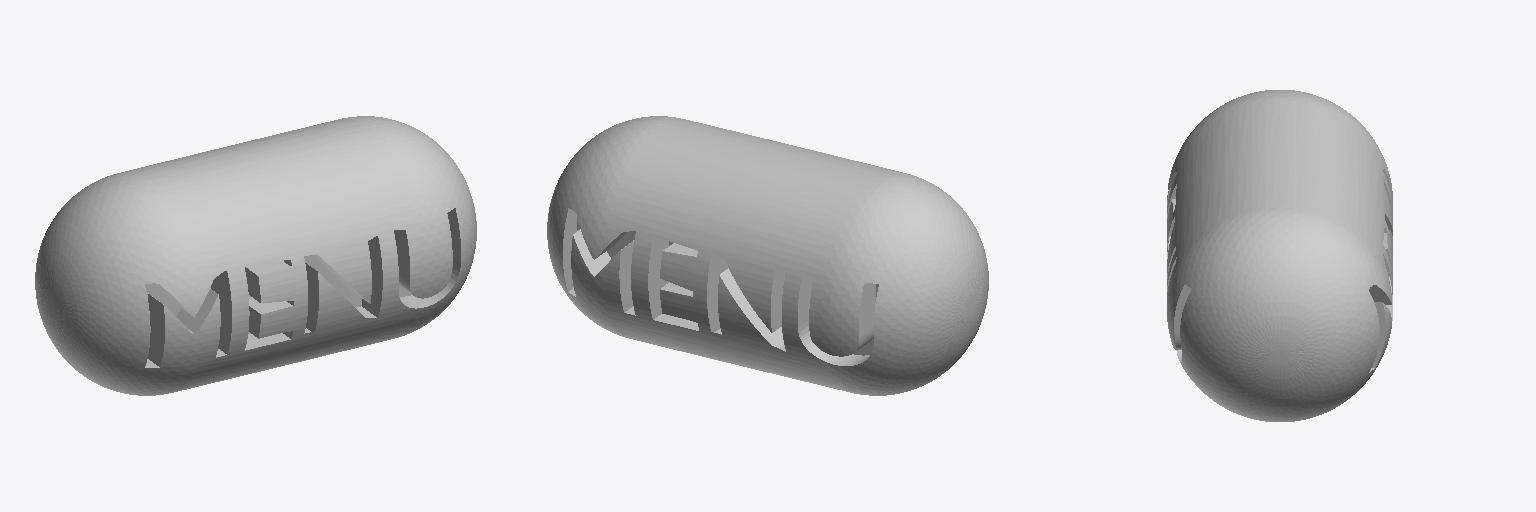
File: Pill.obj
The picture shows the model from 3 angles: view 1: azimuth 30°, elevation 25°; view 2: azimuth 150°, elevation 25°; view 3: azimuth 270°, elevation 25°; orthographic projection.
Parts seen in each view (by area): view 1: Pill.001; view 2: Pill.001; view 3: Pill.001.
Part boxes in pixels (x1,y1,x2,y2): Pill.001: (35, 116, 476, 395); Pill.001: (547, 116, 988, 395); Pill.001: (1167, 90, 1392, 421).
Size of the model in its own units: 3.37 by 1.62 by 1.62.